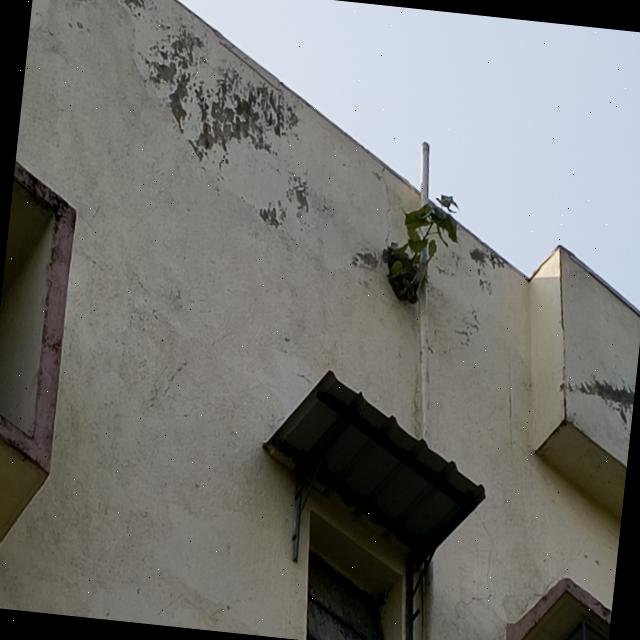peeling: (116, 0, 299, 171), (565, 379, 634, 423), (258, 176, 309, 229), (468, 246, 507, 294), (351, 250, 381, 270)
